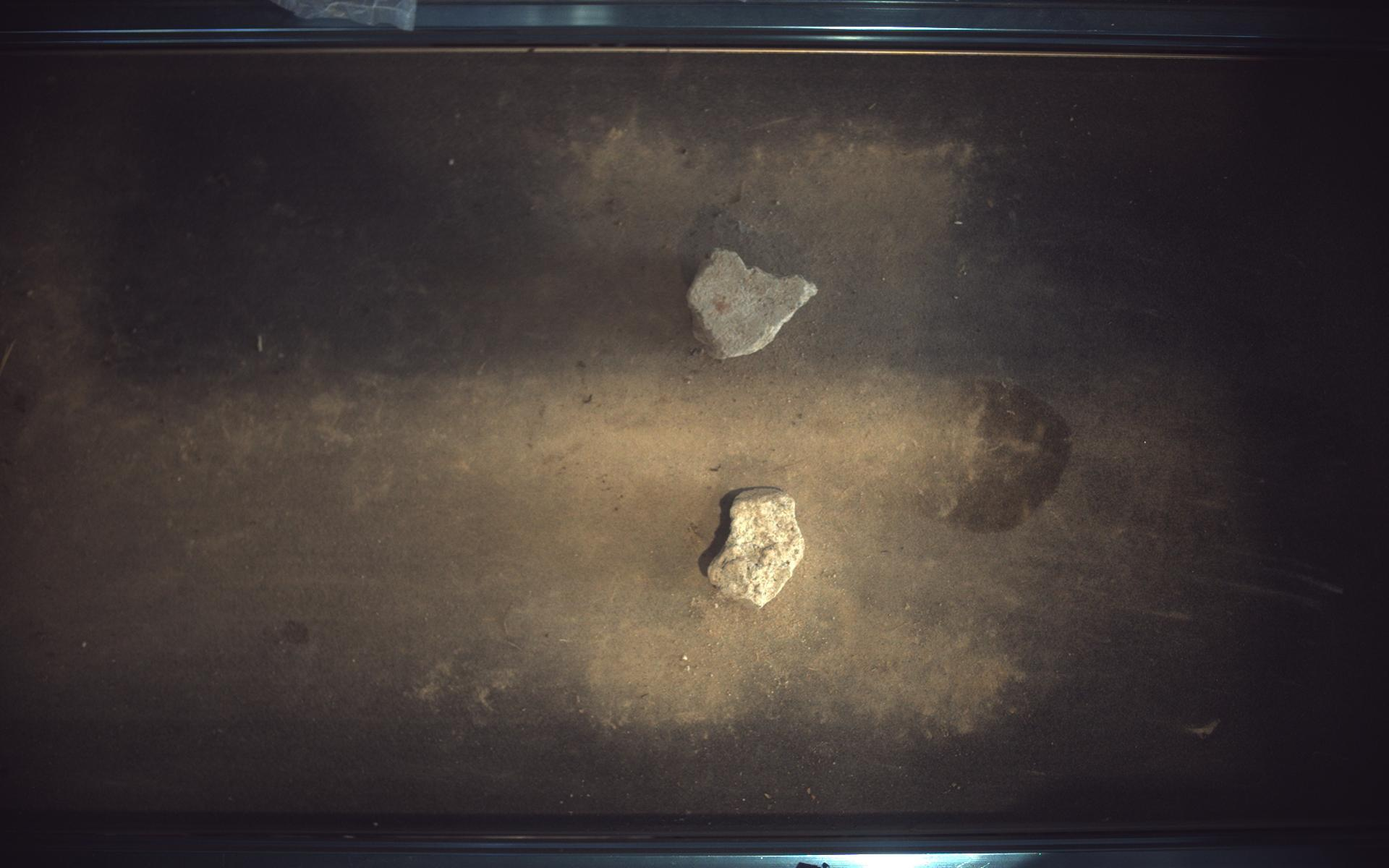stone: (689, 248, 818, 359), (707, 488, 806, 608)
